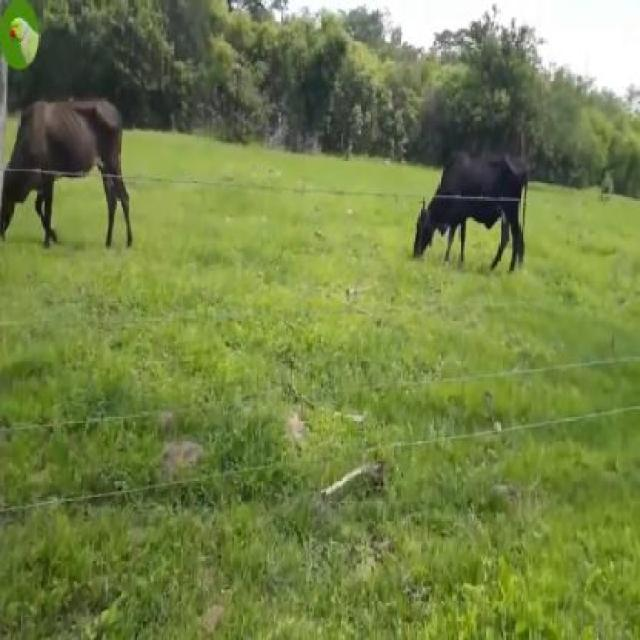Cow: (0, 98, 131, 254), (414, 154, 529, 278)
